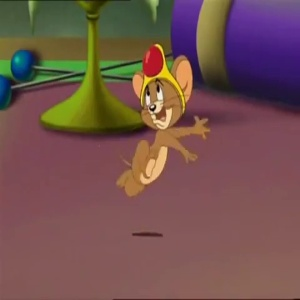Jerry: (127, 41, 193, 128)
